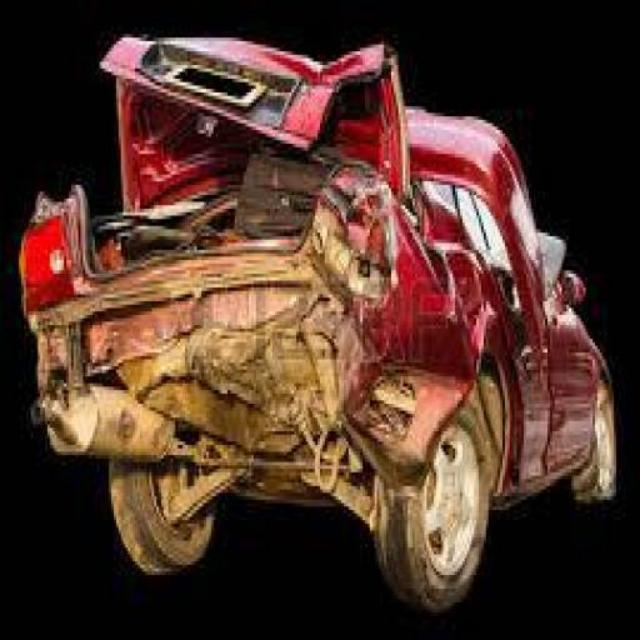crash: (25, 32, 620, 504)
